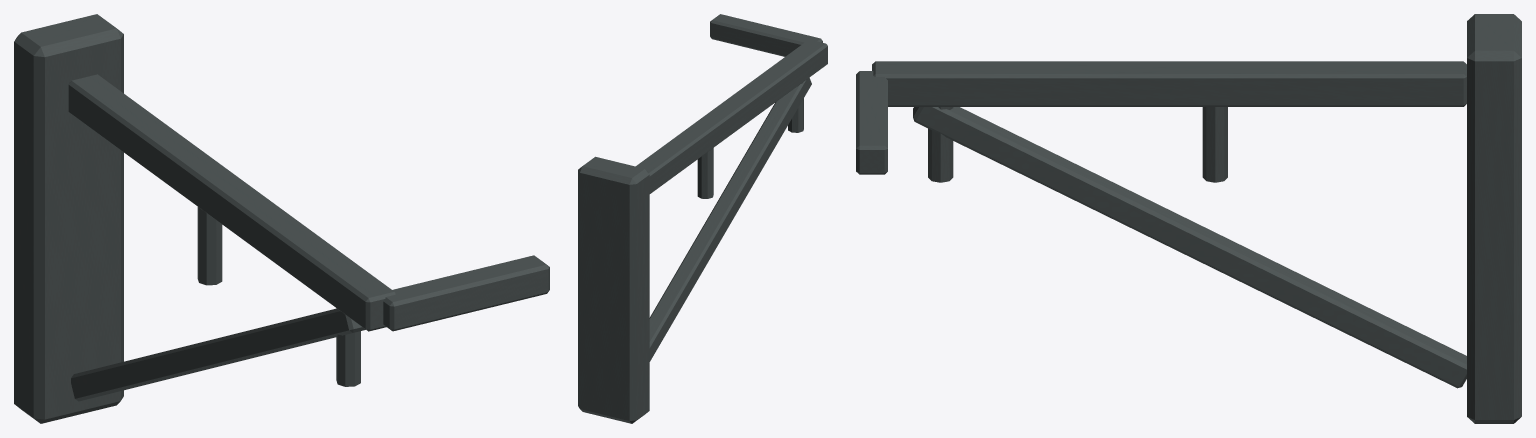
Rendered from D_SignBracket_Elbow_visual.glb.
3 views of the same model, side by side, from view 1: azimuth 30°, elevation 25°; view 2: azimuth 150°, elevation 25°; view 3: azimuth 270°, elevation 25° (orthographic). The views are drawn at different scales.
Parts seen in each view (by area): view 1: D_SignBracket_Elbow__VIS; view 2: D_SignBracket_Elbow__VIS; view 3: D_SignBracket_Elbow__VIS.
Part boxes in pixels (box(x1,y1,x2,y2)): D_SignBracket_Elbow__VIS: box(14, 14, 549, 423); D_SignBracket_Elbow__VIS: box(578, 14, 827, 423); D_SignBracket_Elbow__VIS: box(856, 14, 1521, 423).
Bounding box in the file's own units: 1.03 × 1.8 × 2.91.
Materials: 1 (1 with a texture image).
